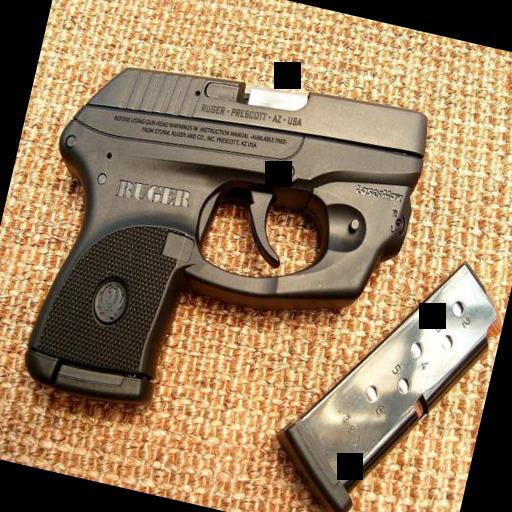Handgun: (3, 26, 439, 462)
